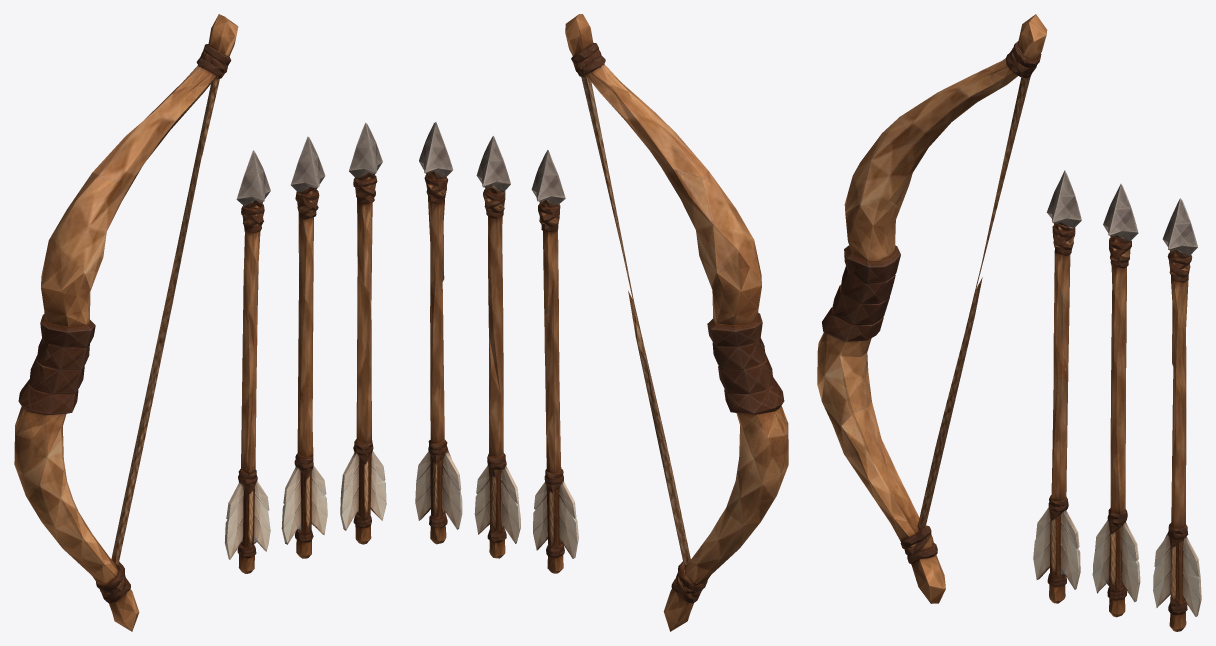
Rendered from bow-arrows.glb.
3 renders of one model, left to right at view 1: azimuth 30°, elevation 25°; view 2: azimuth 150°, elevation 25°; view 3: azimuth 330°, elevation 25°, orthographic. The views are drawn at different scales.
Bounding box in the file's own units: 1.25 × 1.9 × 0.1804.
1 material, 1 textured.
